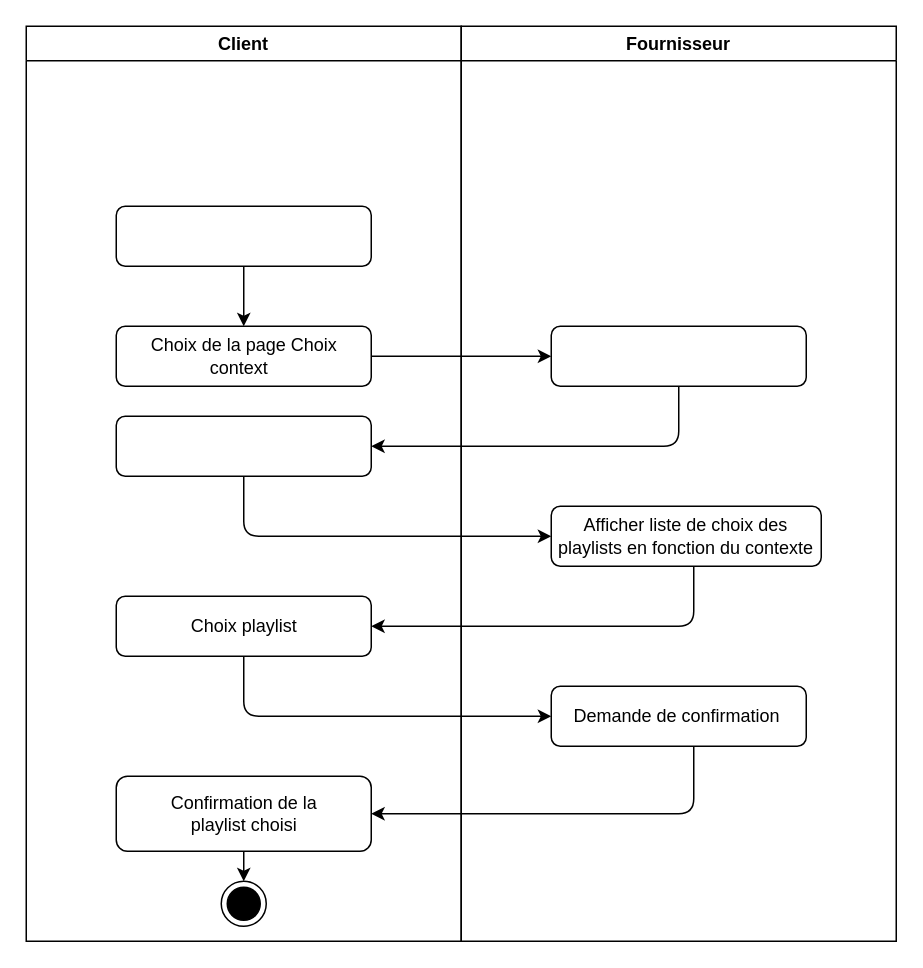
The diagram is 923 pixels wide and 968 high, and some of its shapes have lost their labels. The shapes that lost their labels are listed below. From the top down, each one's centre as x and y in pixels, then its label:
point (243, 235): Log in
point (678, 355): Afficher liste de choix pour idendification du contexte
point (243, 445): Choix du contexte
